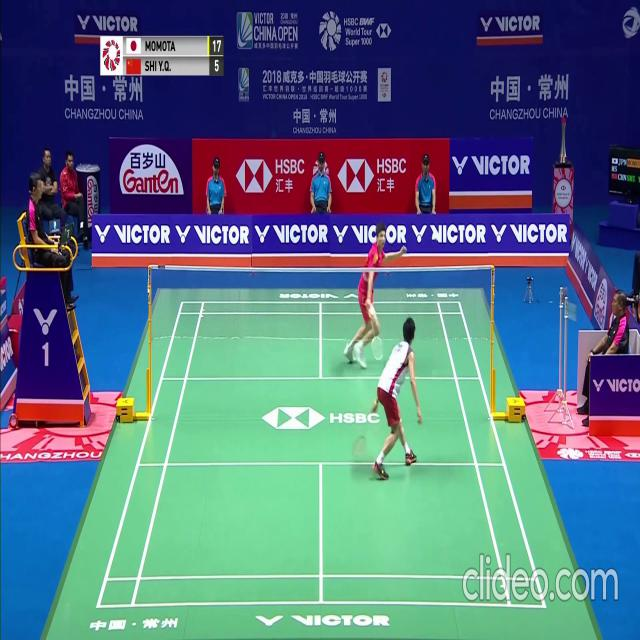Shuttlecock: (433, 232, 437, 240)
